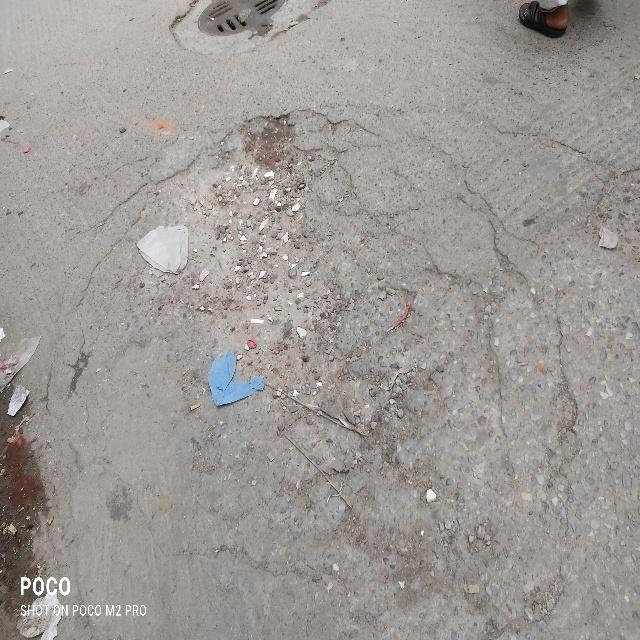Surface Erosion: (85, 30, 640, 598)
